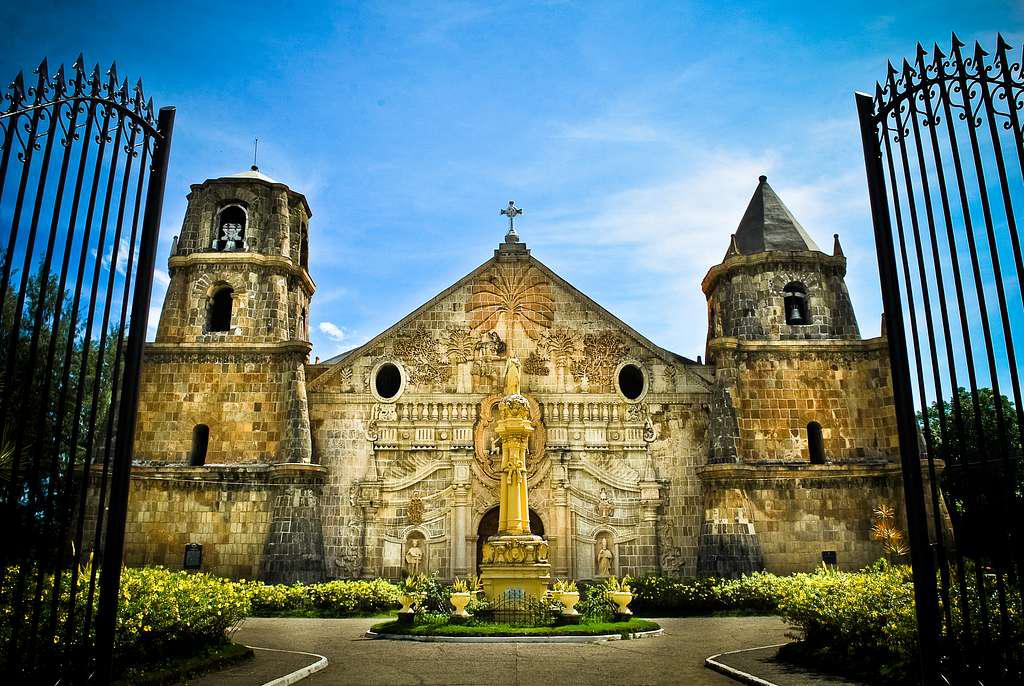Miagao Church: (98, 133, 958, 578)
